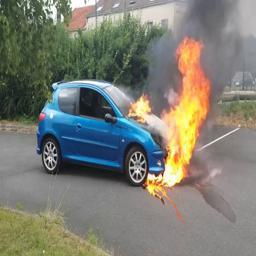fire: (129, 35, 211, 187)
